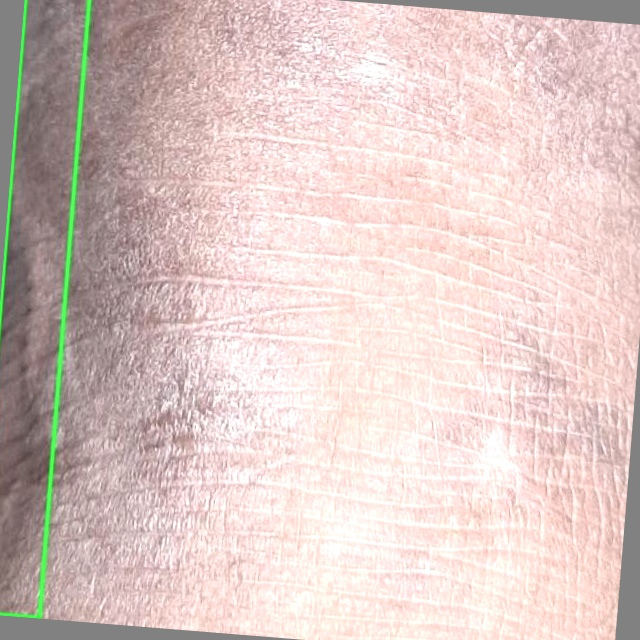Contact Dermatitis: (0, 0, 89, 617)
